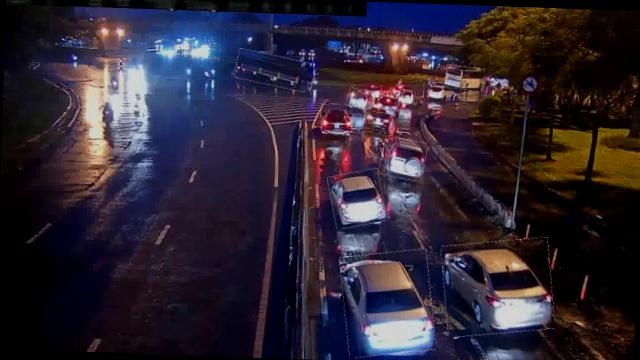Bike: (99, 100, 115, 131)
Bus: (445, 66, 486, 90)
Car: (441, 237, 556, 338), (338, 249, 436, 358), (328, 170, 386, 230), (379, 137, 426, 181), (321, 103, 354, 132), (363, 108, 392, 132), (346, 89, 372, 110), (372, 94, 399, 114), (424, 83, 448, 101)
Truck: (236, 51, 316, 90)
